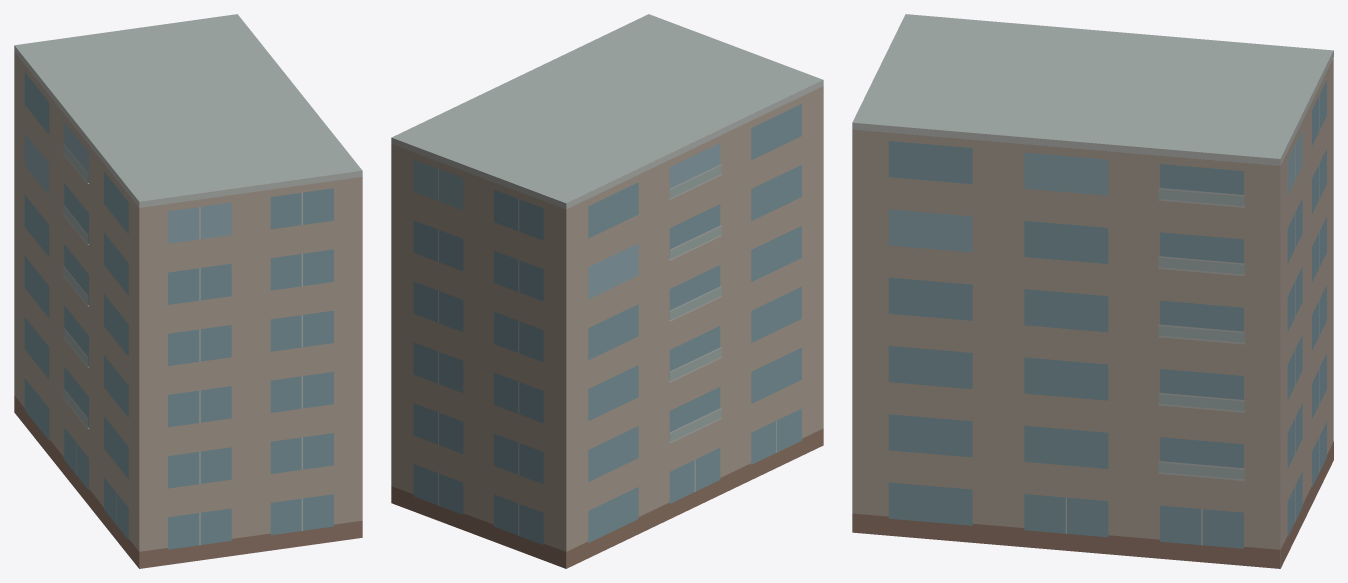
File: survey-upis-32959317.glb
3 renders of one model, left to right at view 1: azimuth 30°, elevation 25°; view 2: azimuth 150°, elevation 25°; view 3: azimuth 270°, elevation 25°, orthographic. The views are drawn at different scales.
Visible parts, largest first — view 1: survey-upis-32959317.tmp; view 2: survey-upis-32959317.tmp; view 3: survey-upis-32959317.tmp.
Part boxes in pixels (bbox=[...]): survey-upis-32959317.tmp: bbox=[14, 14, 362, 568]; survey-upis-32959317.tmp: bbox=[391, 14, 823, 568]; survey-upis-32959317.tmp: bbox=[852, 14, 1333, 568].
Bounding box in the file's own units: 11.05 × 14.55 × 15.5.
